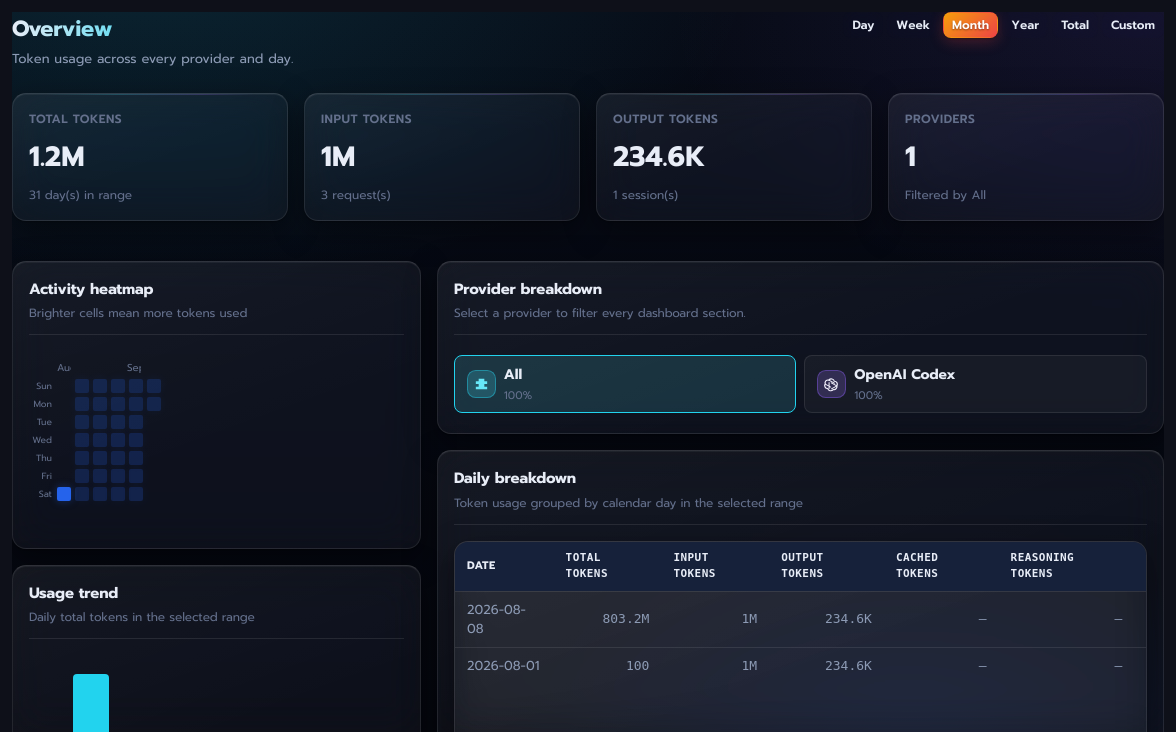
OverviewPage › uses the selected calendar range for the daily breakdown rows
The image size is (1176, 732).
expect the text "2026-08-08" is shown: met, box [467,600,526,638]
Click the tab "Day".
click(863, 25)  # box [843,12,883,38]
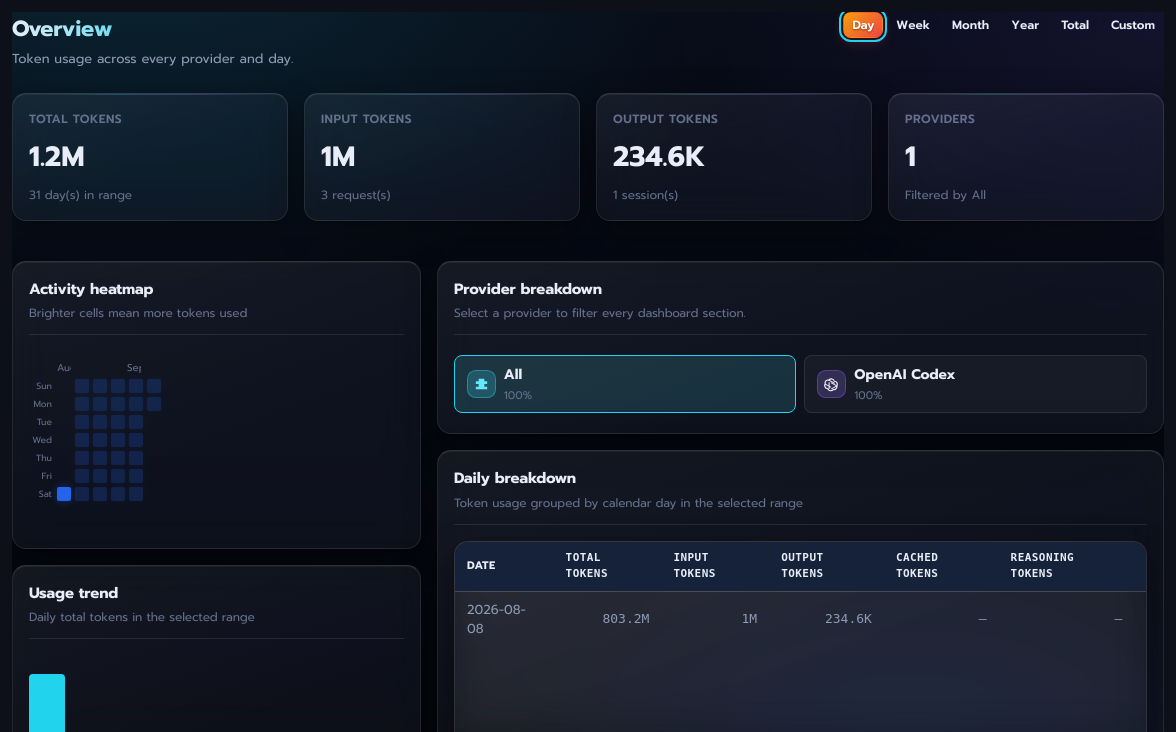
expect the button "803.2M" is shown: met, box [602,609,650,629]
expect the text "2026-08-01" is gone: met
